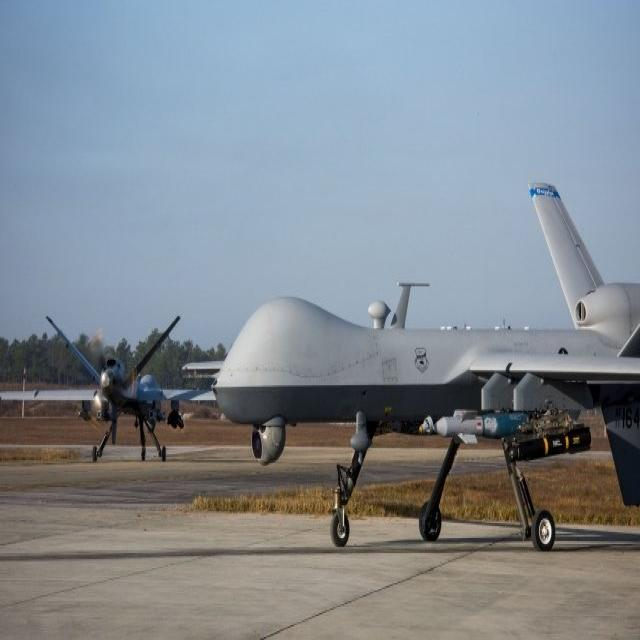MIL_Plane: (210, 180, 639, 551), (1, 315, 217, 463)
